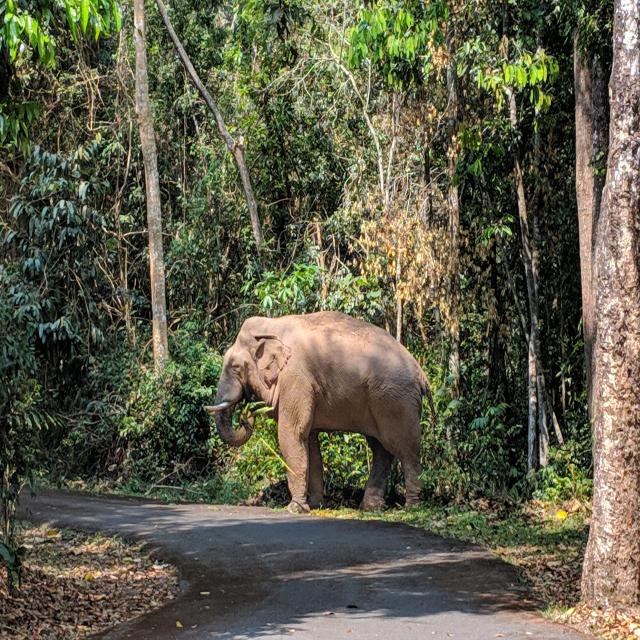Elephant: (192, 294, 448, 536)
